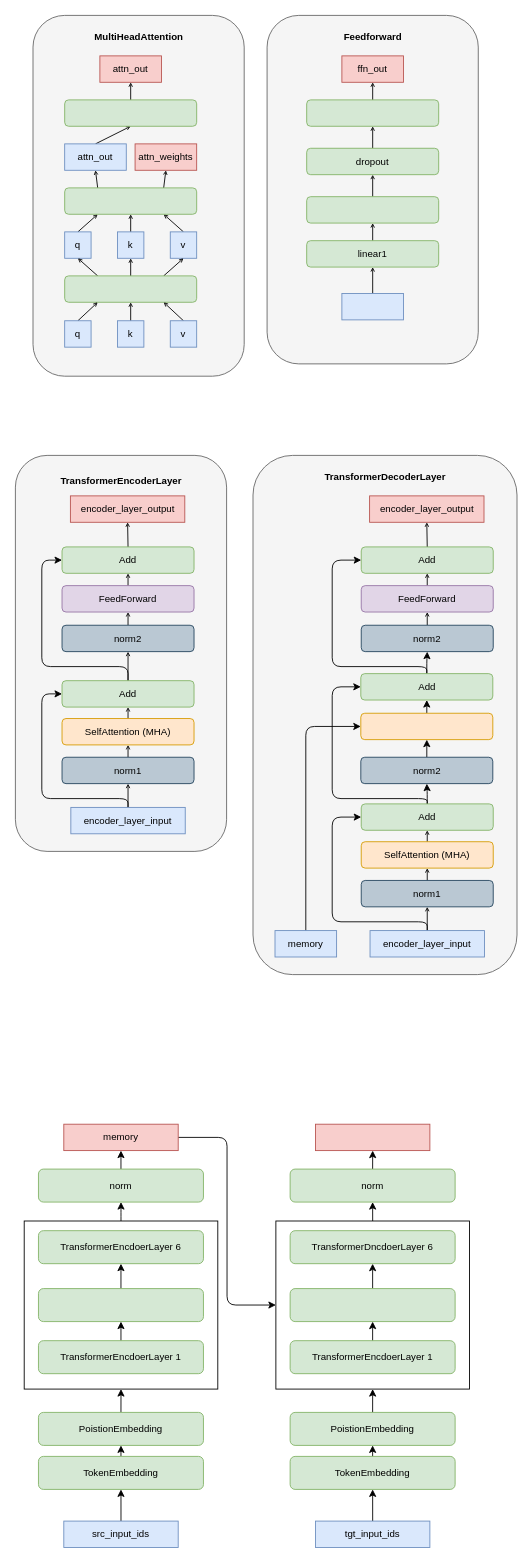
The diagram is 532 pixels wide and 1563 high, and some of its shapes have lost their labels. The shapes that lost their labels are listed below. From the top down, each one's box as (x1, y1, x2, y2) in pixels, then its label:
(64, 99, 197, 126): out_proj
(306, 99, 439, 126): linear2
(64, 187, 197, 214): scale_dot_attention
(306, 196, 439, 223): relu
(64, 275, 197, 302): in_proj
(341, 293, 403, 320): ffn_in
(360, 712, 493, 740): CrossAttention (MHA)
(315, 1123, 430, 1151): output
(38, 1288, 203, 1322): TransformerEncdoerLayer 2
(289, 1288, 455, 1322): TransformerDncdoerLayer 2
